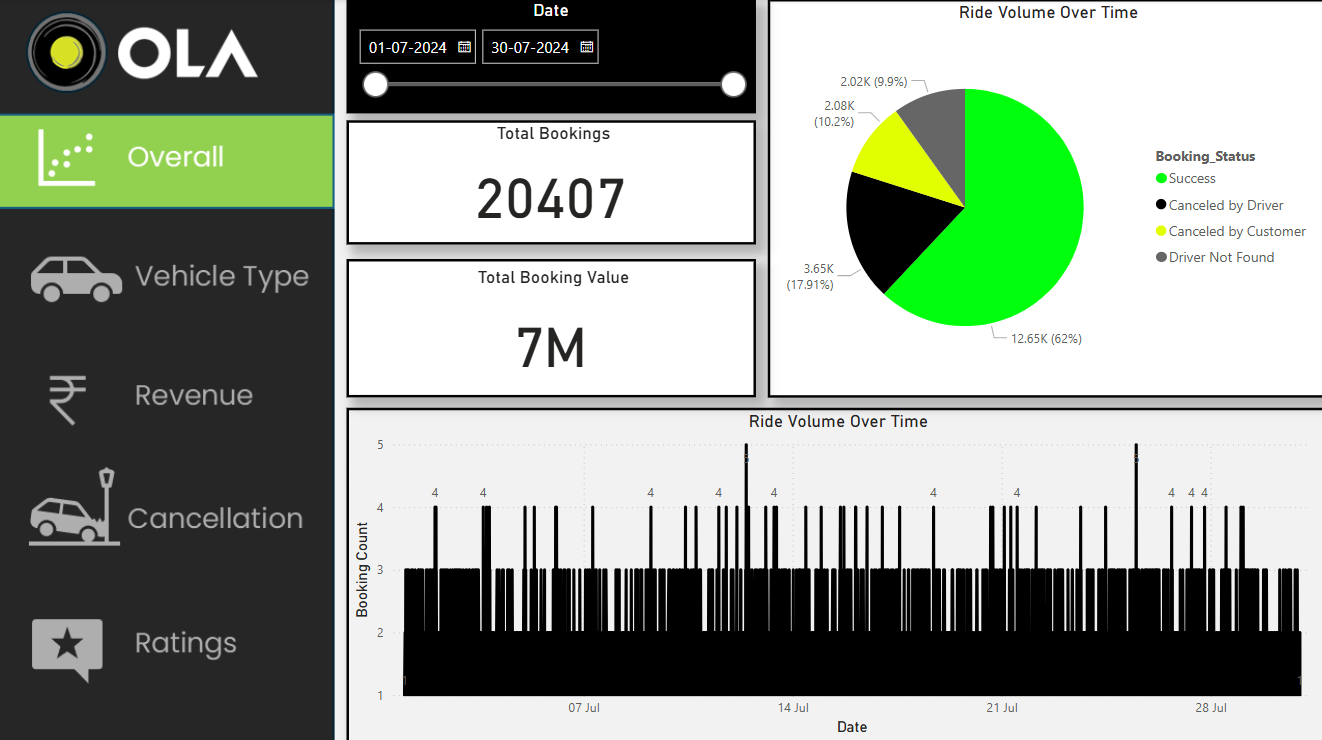

The page's visual inventory and layout, read from the dashboard file:
{"tool":"powerbi","page":{"name":"Overall","canvas":[1280,720],"ordinal":0},"visuals":[{"type":"actionButton","box":[0,223.7,325,86.8],"z":0},{"type":"actionButton","box":[0,580.3,325,93.4],"z":1000},{"type":"actionButton","box":[0,444.7,325,93.4],"z":2000},{"type":"actionButton","box":[0,338.2,325,93.4],"z":3000},{"type":"lineChart","title":"Ride Volume Over Time","fields":{"Y":["CountNonNull(July (2).Booking_ID)"],"Category":["July (2).Date"]},"box":[335,395,945,325],"z":4000},{"type":"pieChart","title":"Ride Volume Over Time","fields":{"Category":["July (2).Booking_Status"],"Y":["CountNonNull(July (2).Booking_Status)"]},"box":[742.5,0,537.5,385],"z":5000},{"type":"slicer","title":"Date","fields":{"Values":["July (2).Date"]},"box":[335,0,395,110],"z":6000},{"type":"card","title":"Total Bookings","fields":{"Values":["Count(July (2).Booking_ID)"]},"box":[335,117.5,395,120],"z":7000},{"type":"card","title":"Total Booking Value","fields":{"Values":["Sum(July (2).Booking_Value)"]},"box":[335,251.2,395,133.8],"z":8000}]}

Visuals, with their boxes in screenshot pixels (x1, y1, x2, y2), scaled from the page's 1280x720 canvas onto the 1322x740 screenshot:
actionButton: <region>0, 230, 336, 319</region>
actionButton: <region>0, 596, 336, 692</region>
actionButton: <region>0, 457, 336, 553</region>
actionButton: <region>0, 348, 336, 444</region>
"Ride Volume Over Time" lineChart: <region>346, 406, 1321, 739</region>
"Ride Volume Over Time" pieChart: <region>767, 0, 1321, 396</region>
"Date" slicer: <region>346, 0, 754, 113</region>
"Total Bookings" card: <region>346, 121, 754, 244</region>
"Total Booking Value" card: <region>346, 258, 754, 396</region>
